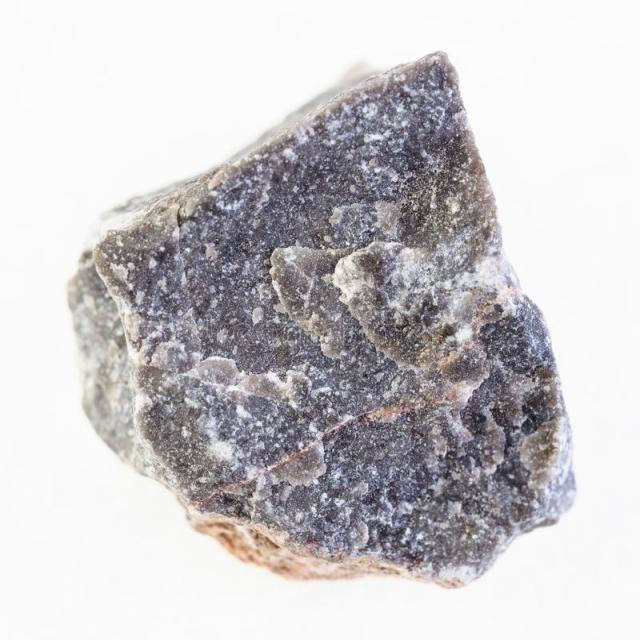Sedimentary: (56, 45, 578, 592)
